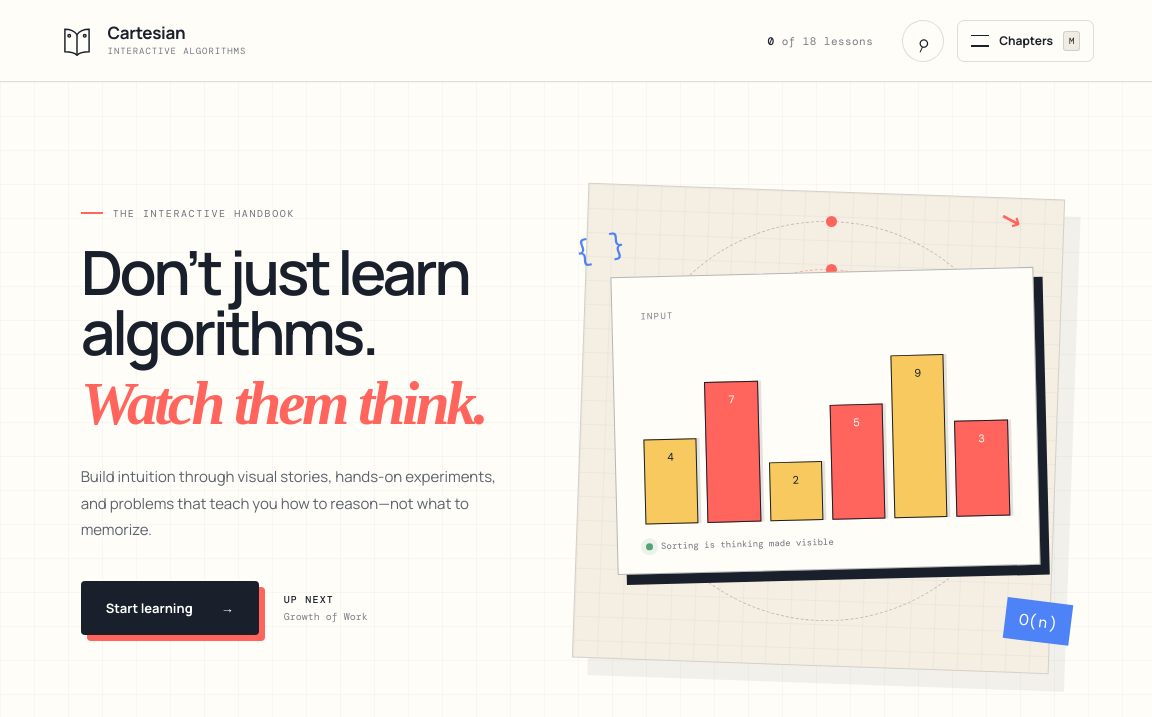
Test: lesson search › filters lessons and opens the selected result
Click the button named "Search lessons". click: (923, 40)
box: [896,14,950,67]
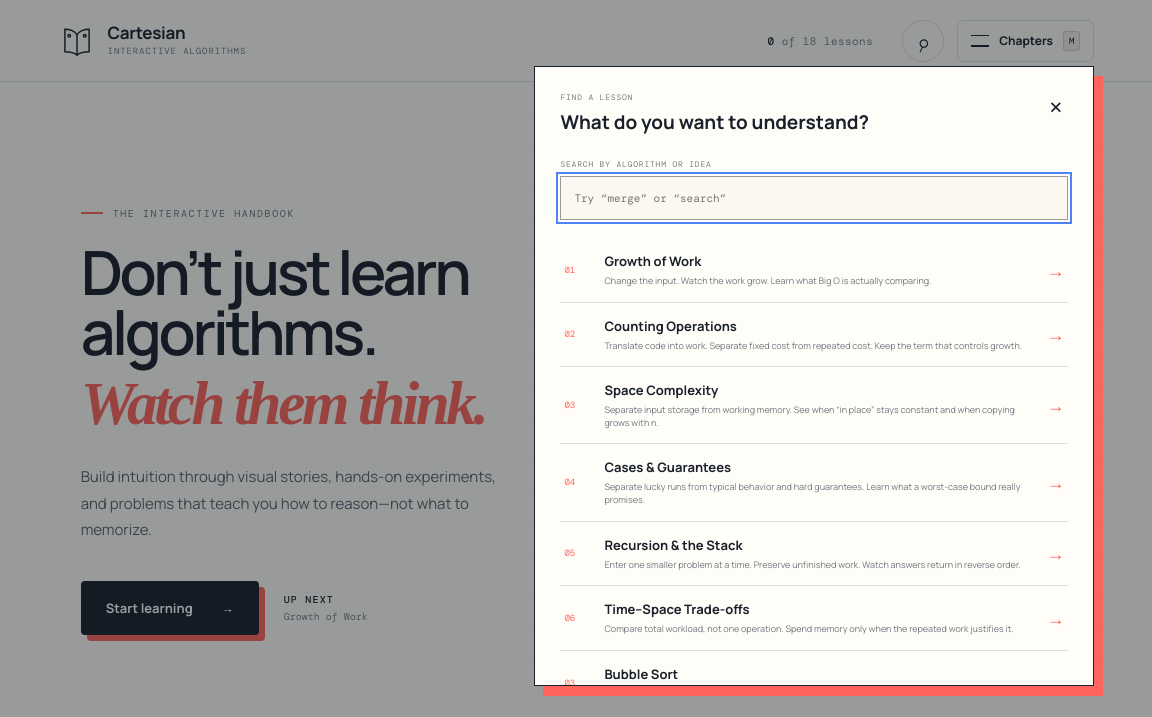
Type "merge" into the search field labelled "Search by algorithm or idea". click: (814, 198)
box: [560,176,1068,220]
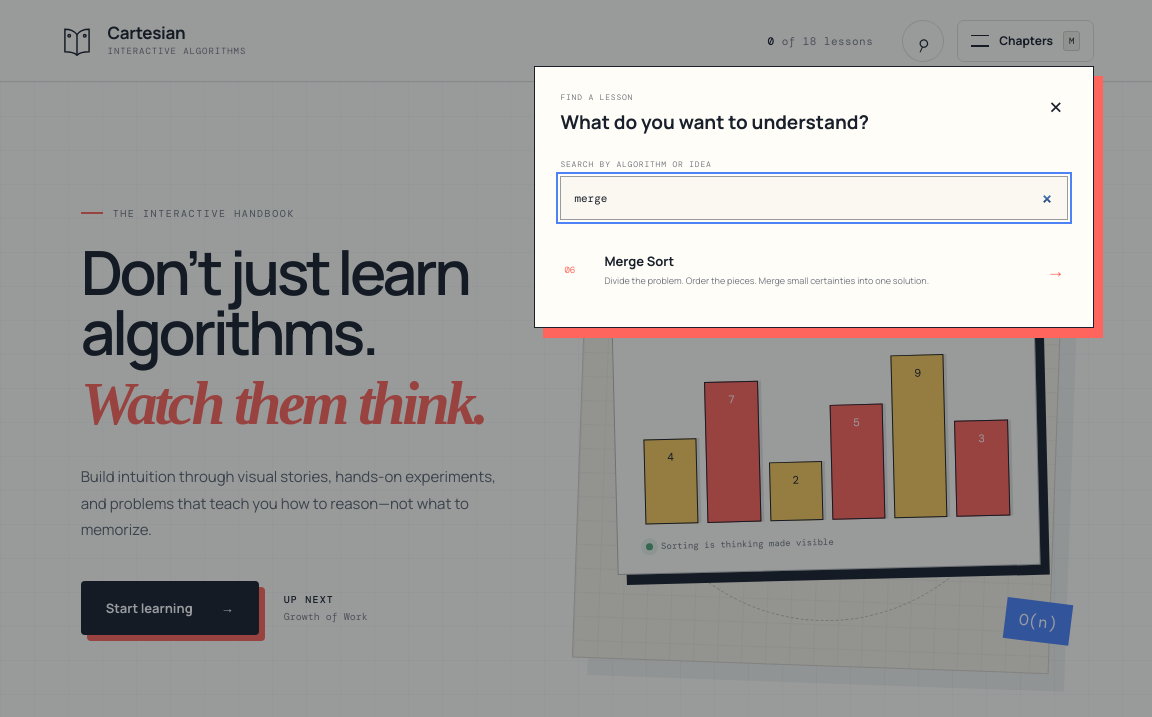
Expected: the button "Merge Sort" is shown
Expected: the button "Bubble Sort" is gone
Click the button "Merge Sort". click: (639, 261)
box: [560,238,1068,302]
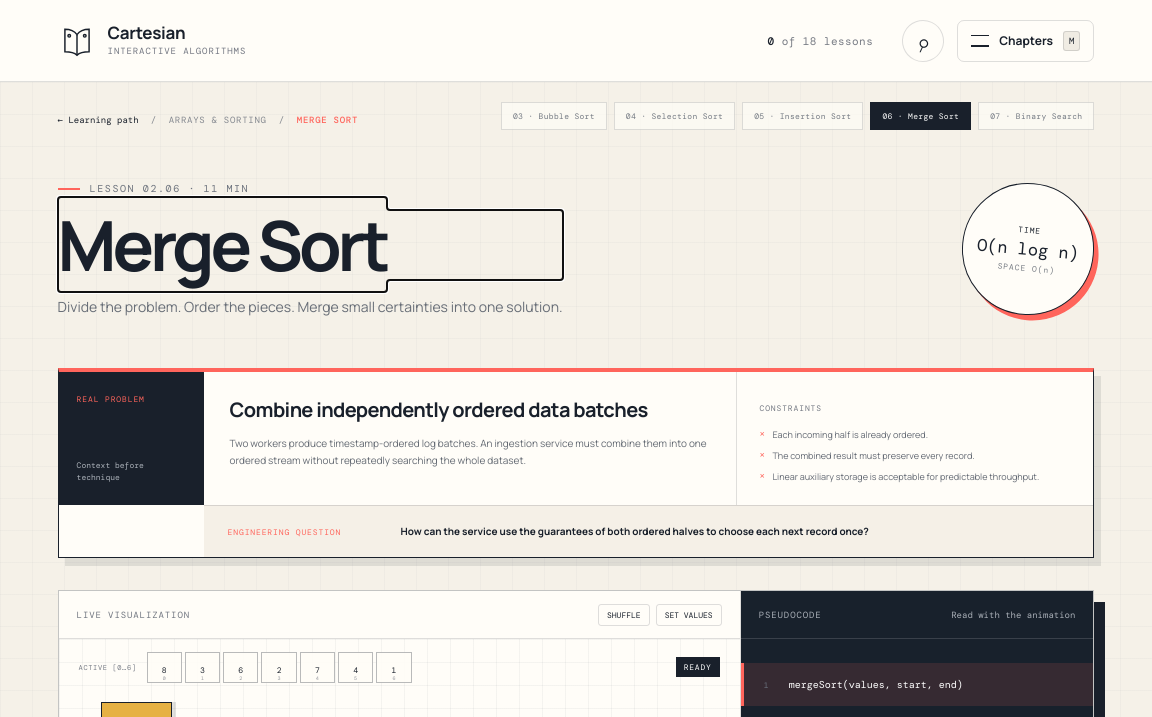
Expected: the heading "Merge Sort" is shown, [58,197,387,292]
